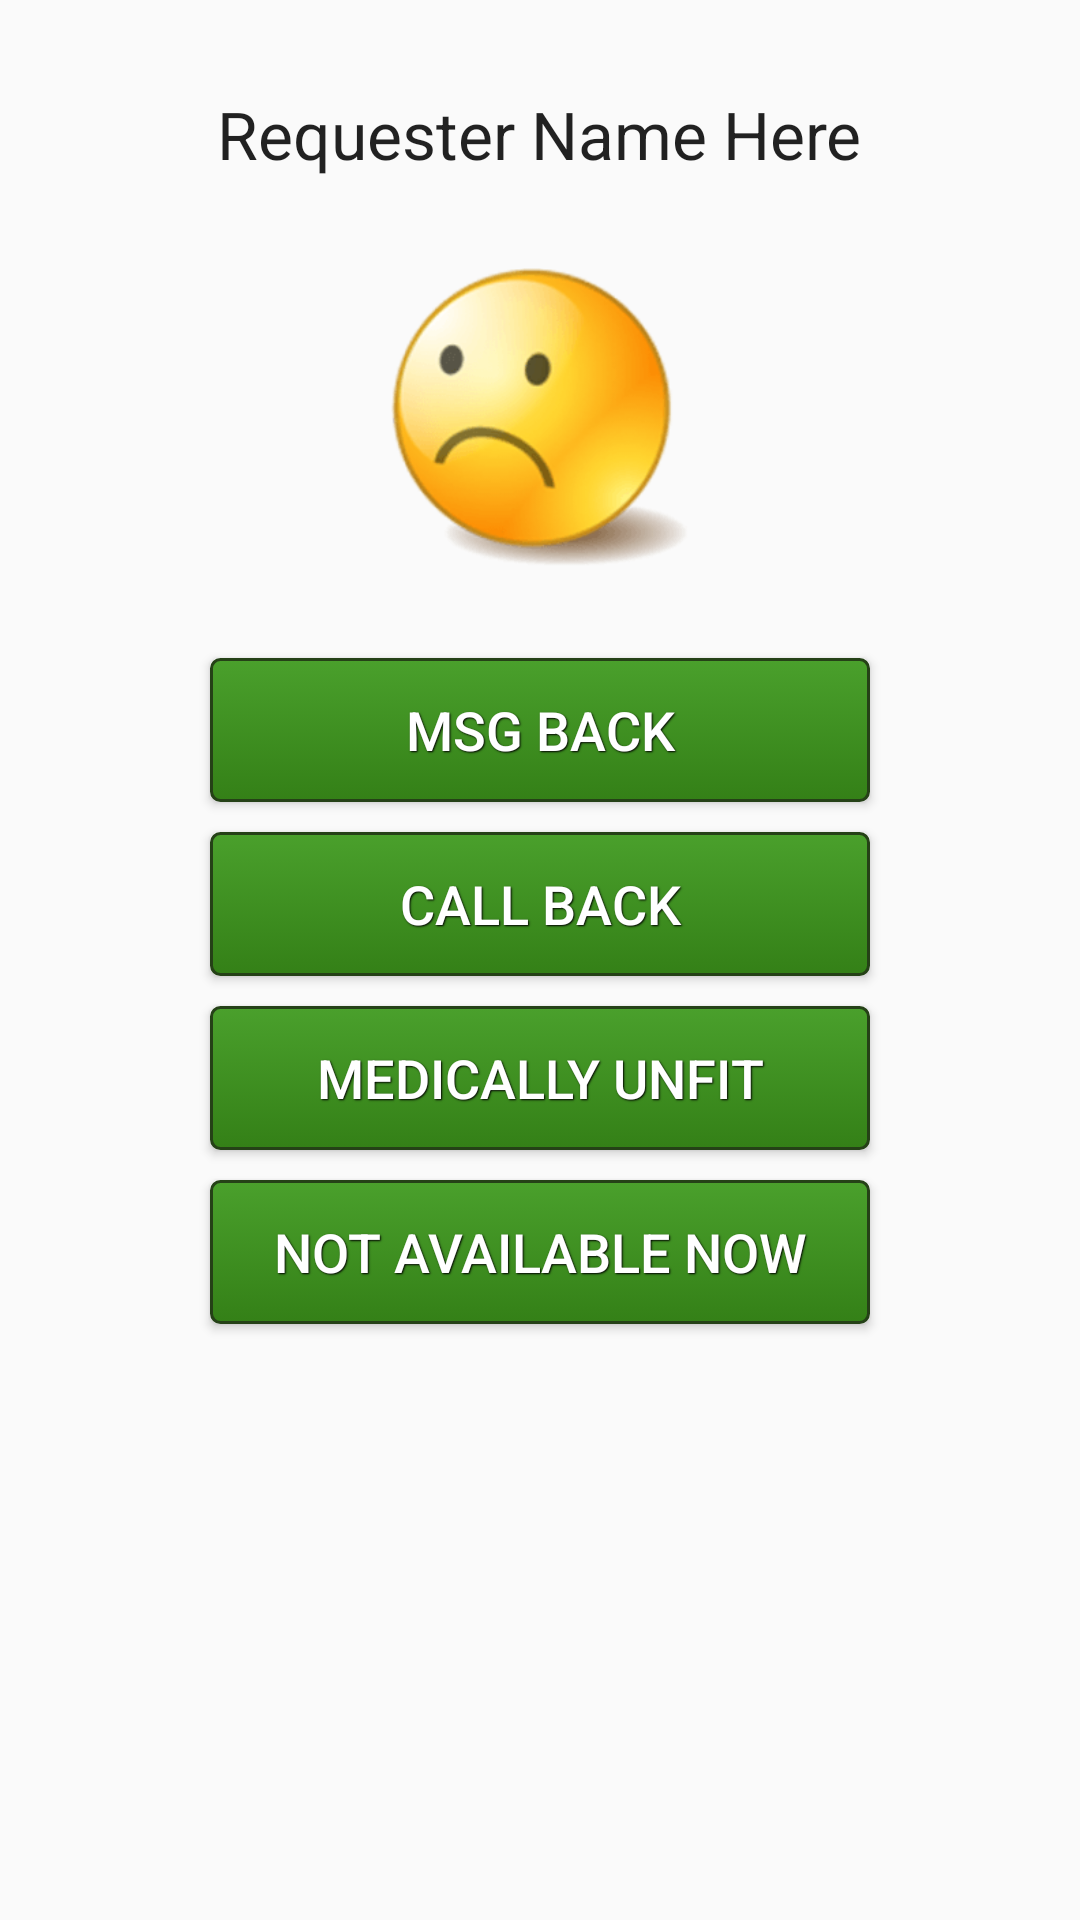

Icon click points for this 1080×1920 phone screenshot, format (x,y):
sad: (535,415)
